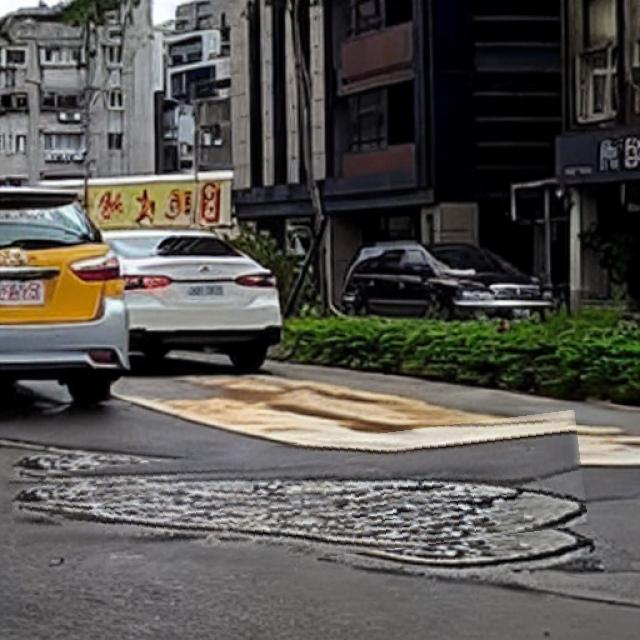puddle: (12, 428, 586, 578)
